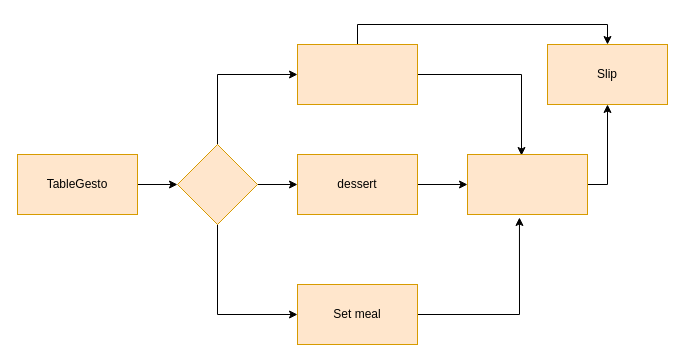
The diagram is 685 pixels wide and 362 high, and some of its shapes have lost their labels. Here are the shapes that lost their labels. From the top down, the centre of each, then its label:
point 357,74: Drink
point 217,184: tab
point 527,184: subtotal
